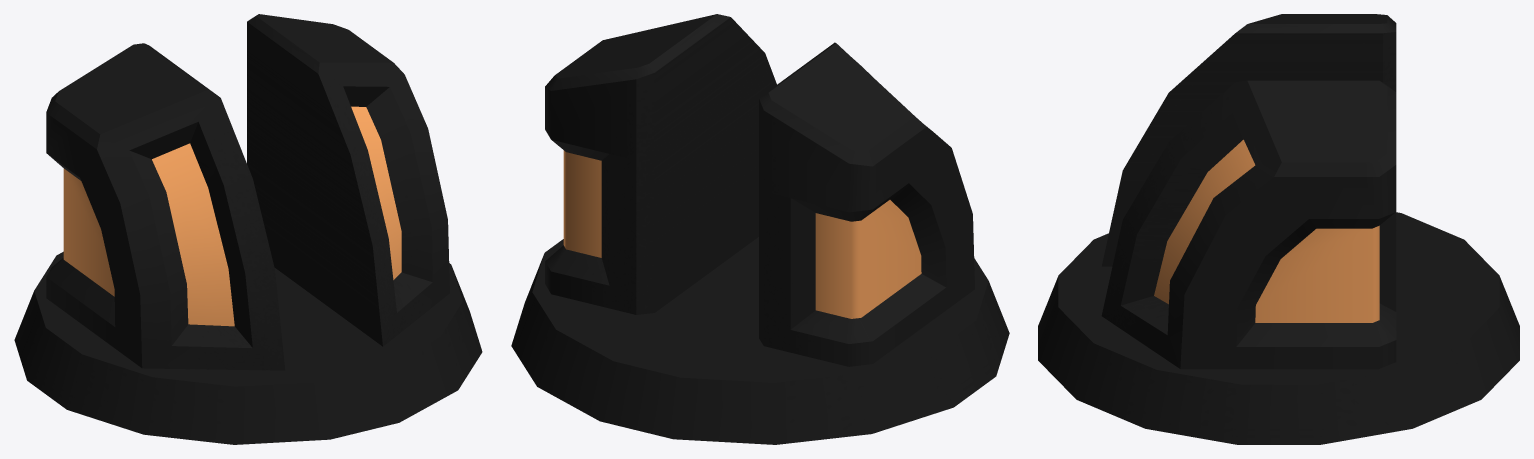
File: YK_Rifle_Gimbal.obj
The picture shows the model from 3 angles, left to right: view 1: azimuth 30°, elevation 25°; view 2: azimuth 150°, elevation 25°; view 3: azimuth 270°, elevation 25°; orthographic projection. The views are drawn at different scales.
Parts seen in each view (by area): view 1: Cube_Cube.005; view 2: Cube_Cube.005; view 3: Cube_Cube.005.
Part boxes in pixels (left/top/right/bottom): Cube_Cube.005: left=14, top=14, right=482, bottom=444; Cube_Cube.005: left=511, top=14, right=1009, bottom=444; Cube_Cube.005: left=1038, top=14, right=1519, bottom=444.
Size of the model in its own units: 1 by 0.6664 by 1.
